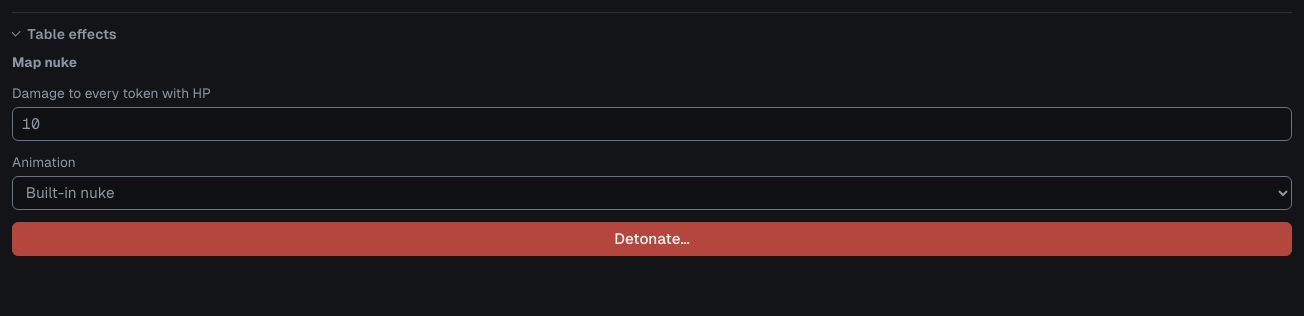
Test: GM table effects (FR-TAC-06, ADR 0038) › refuses an amount outside 1-999 before asking
The width and height of the screenshot is (1304, 316).
Replace the text in the number field labelled "Damage to every token with HP" with "1000": (652, 124) [12,107,1292,141]
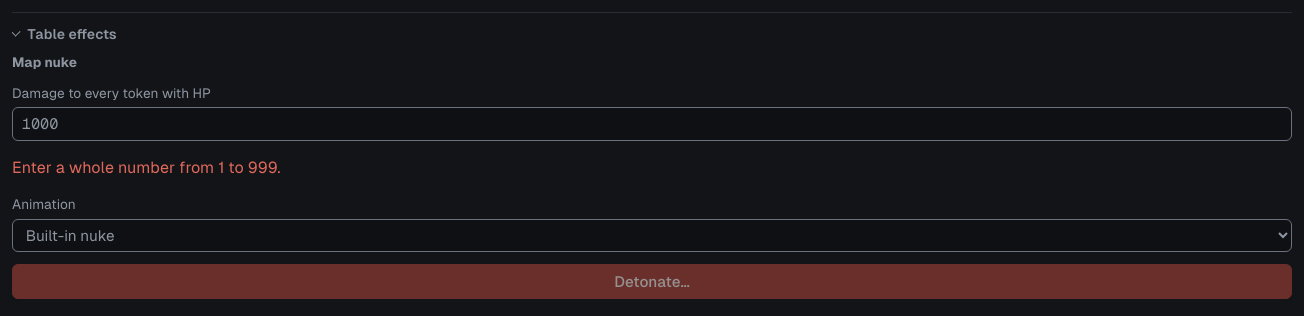
Expected: the button "Detonate…" is disabled, [12,264,1292,299]
